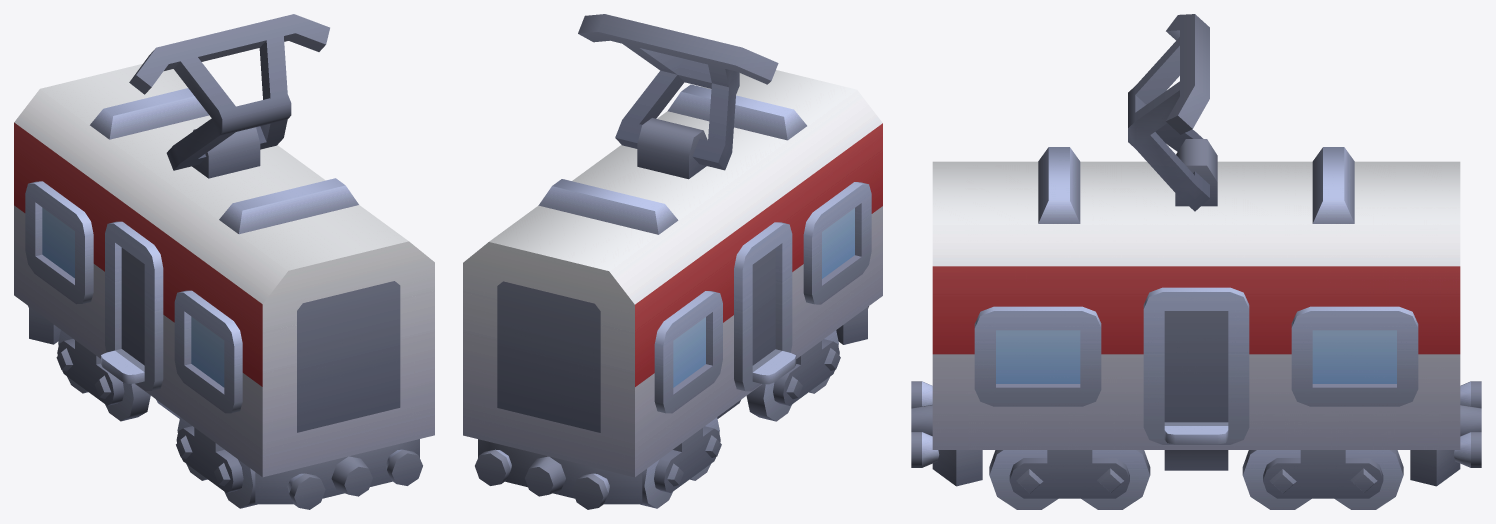
Rendered from train-electric-city-b.glb.
3 views of the same model, side by side, from view 1: azimuth 30°, elevation 25°; view 2: azimuth 150°, elevation 25°; view 3: azimuth 270°, elevation 25° (orthographic). The views are drawn at different scales.
Parts seen in each view (by area): view 1: train-electric-city-b; view 2: train-electric-city-b; view 3: train-electric-city-b.
Boxes of the visible parts, x1,y1,x2,y2 form: train-electric-city-b: (14, 14, 434, 509); train-electric-city-b: (463, 14, 882, 509); train-electric-city-b: (911, 14, 1481, 509).
Bounding box in the file's own units: 1.3 × 2.22 × 2.7.
1 material, 1 textured.
